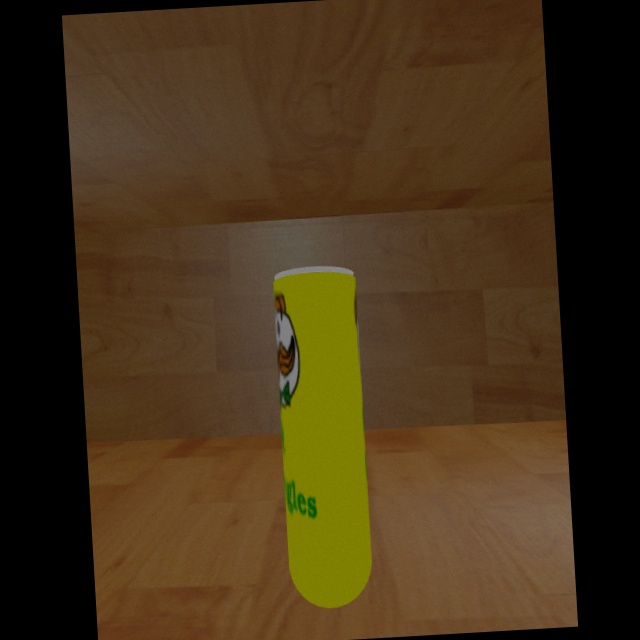chipsdose_gelb: (272, 266, 372, 611)
